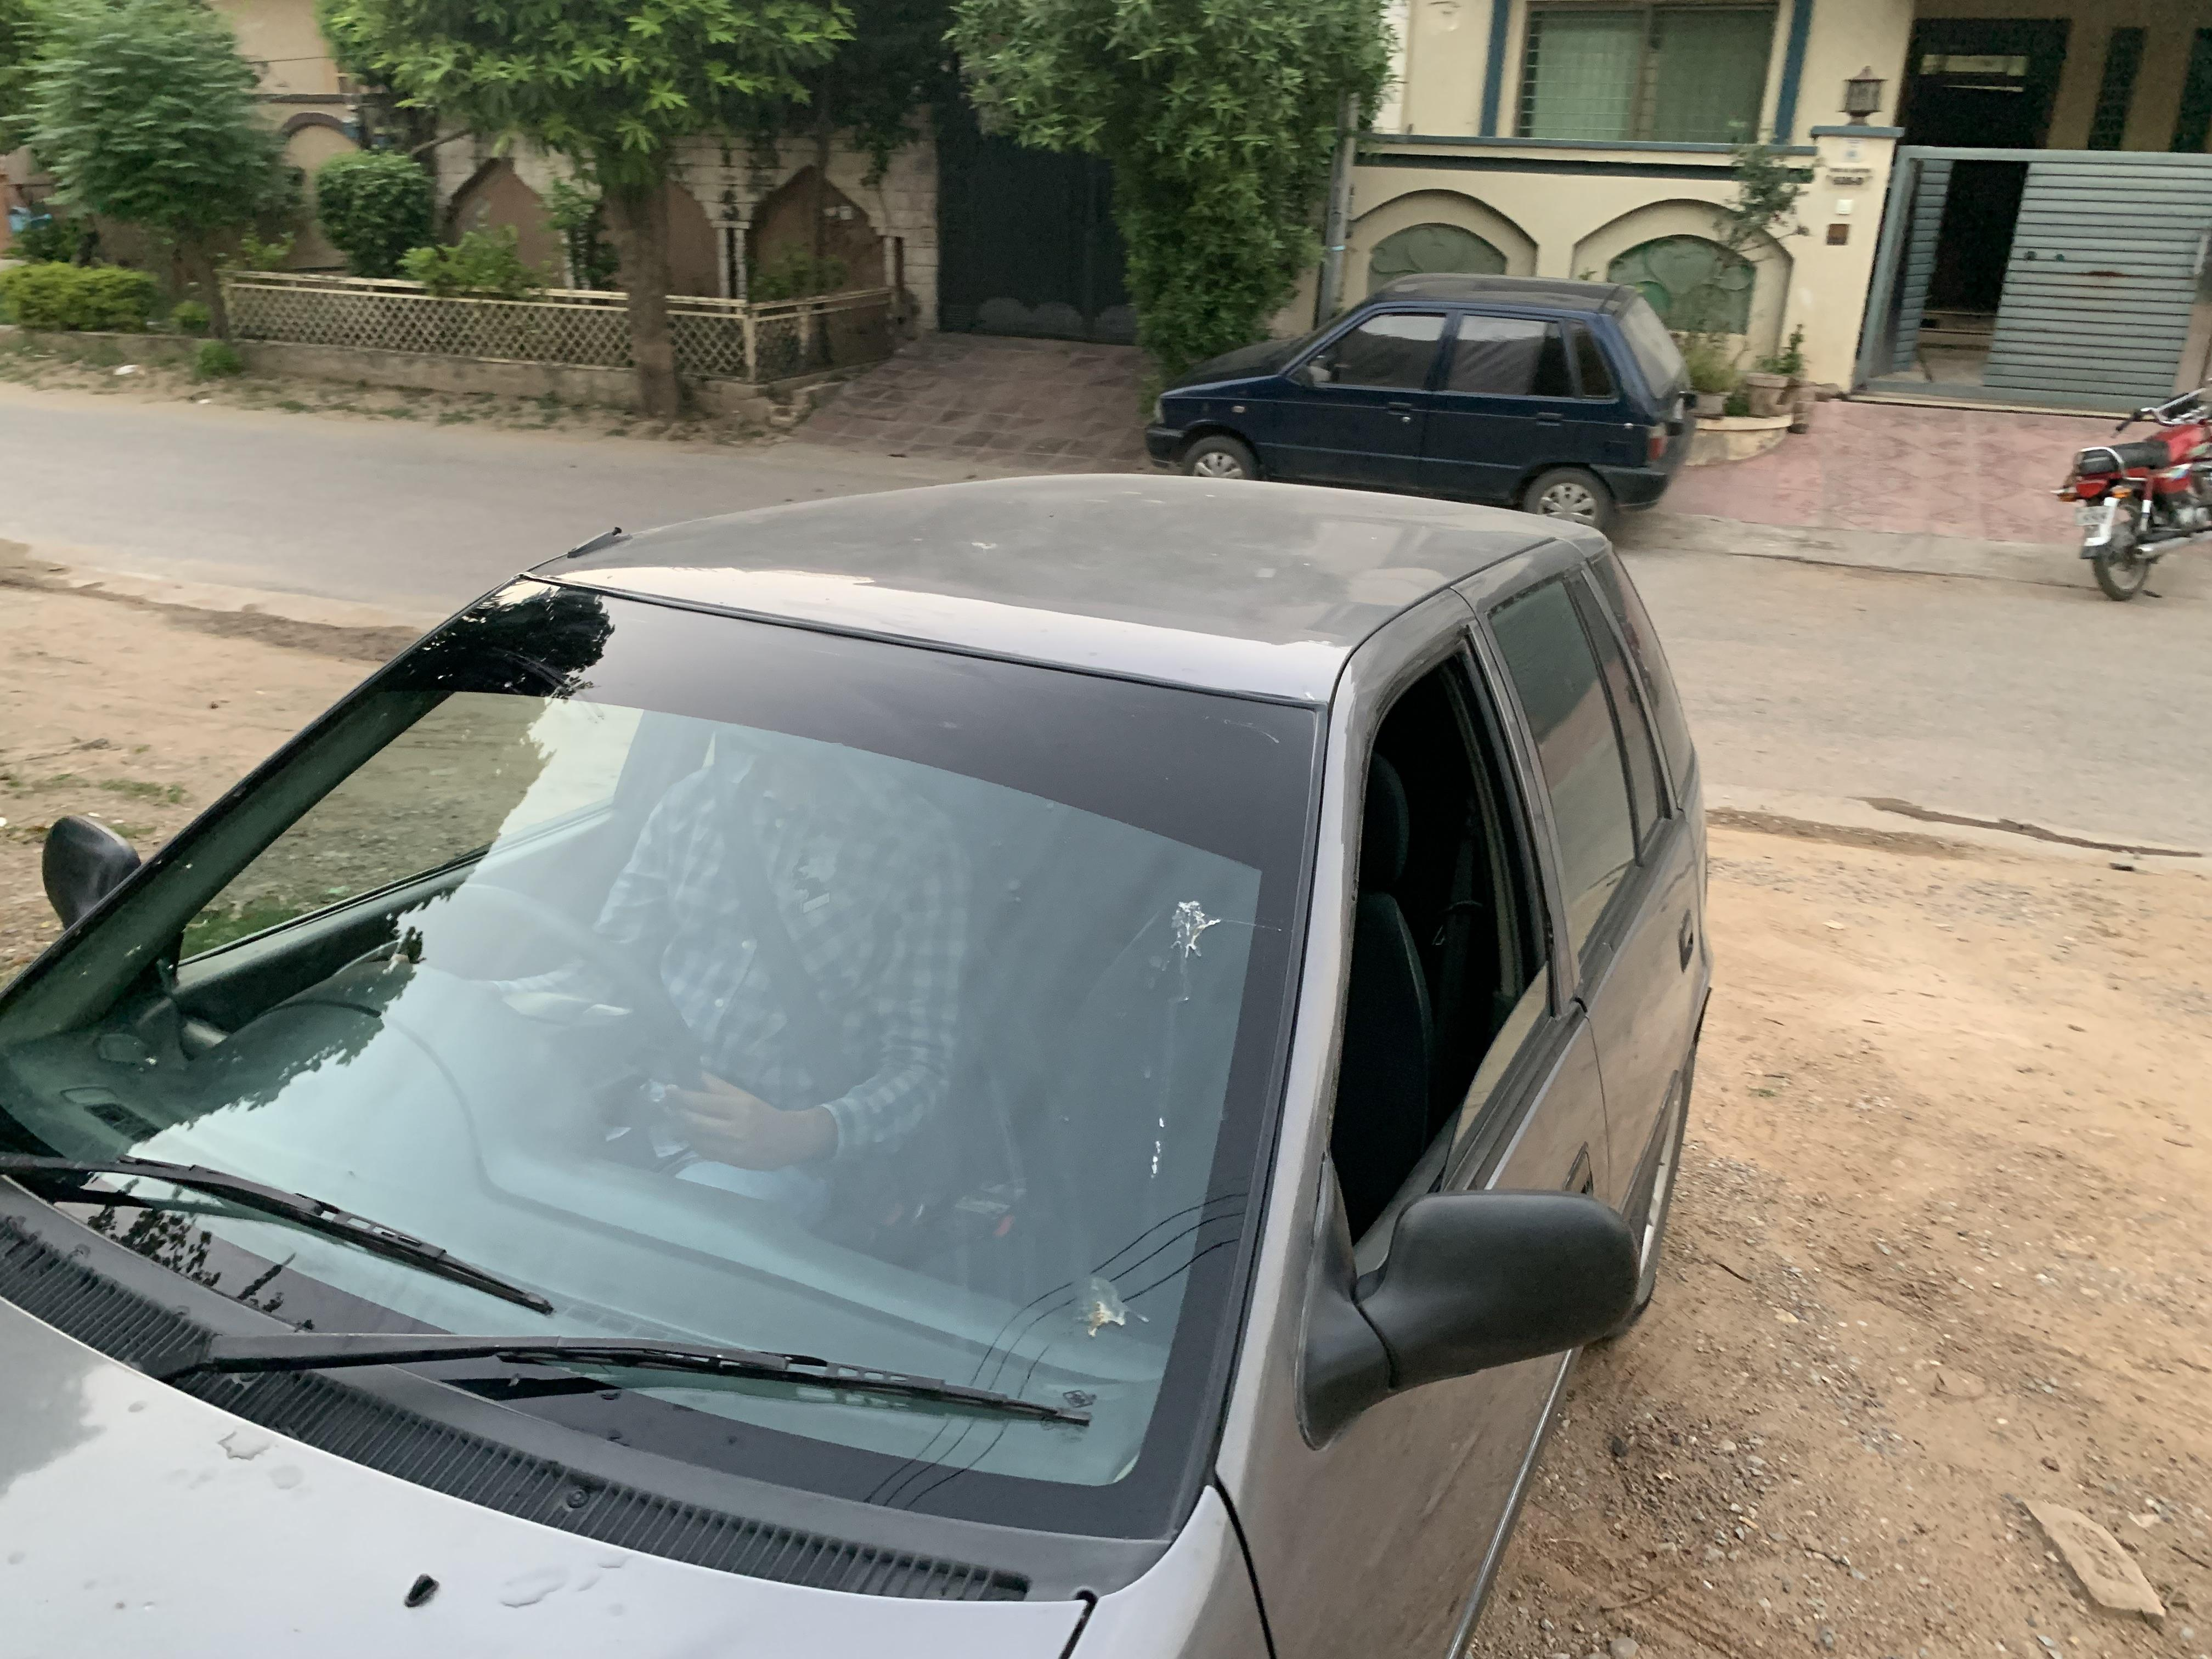windshield: (0, 565, 1336, 1586)
